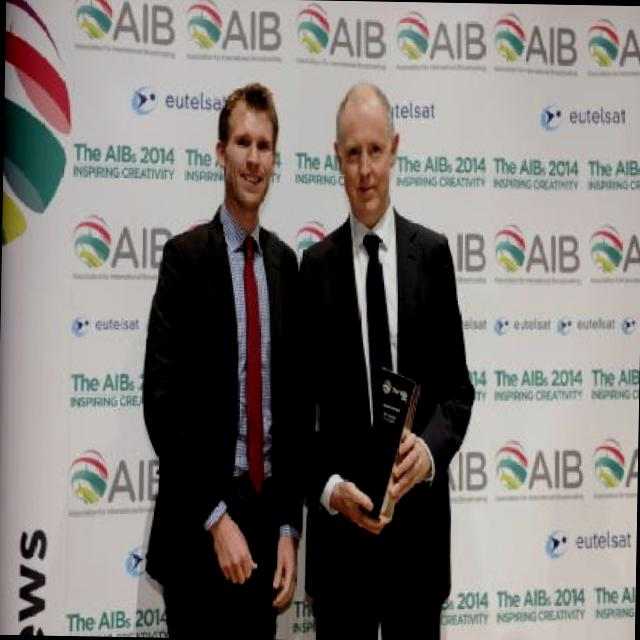Person: (295, 69, 477, 640), (140, 76, 314, 638)
